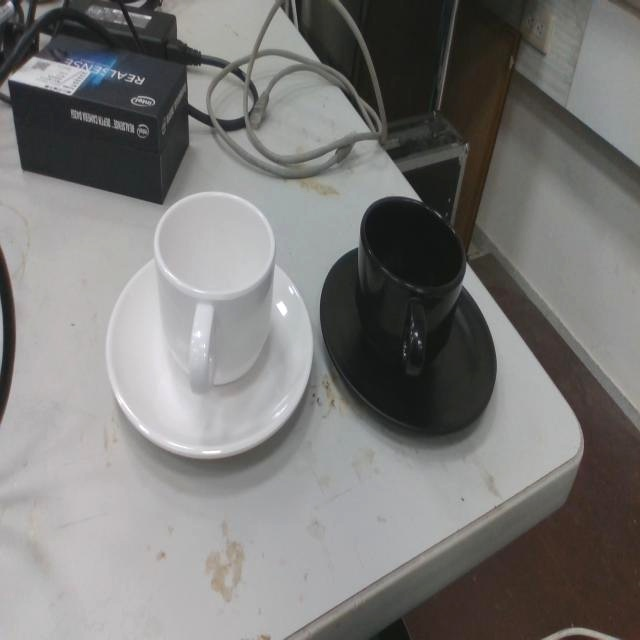black: (319, 189, 500, 444)
white: (103, 185, 316, 469)
